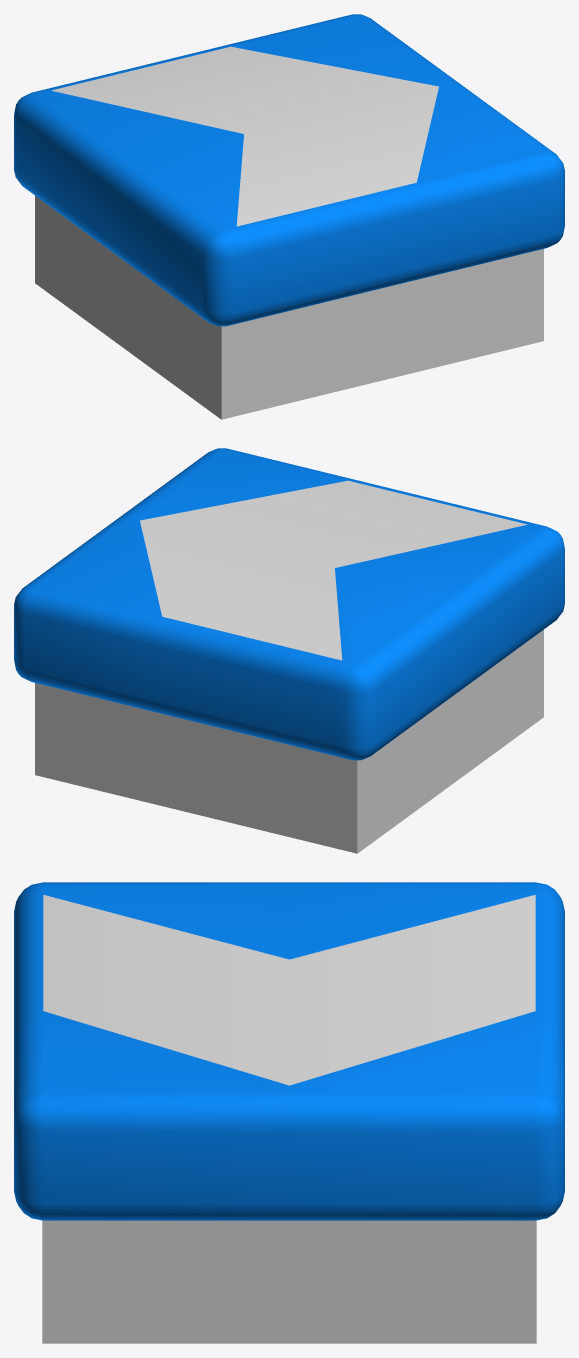
3 views of the same model, one above another, from view 1: azimuth 30°, elevation 25°; view 2: azimuth 150°, elevation 25°; view 3: azimuth 270°, elevation 25° (orthographic). The views are drawn at different scales.
Parts seen in each view (by area): view 1: Base_1_Arrow_White_; view 2: Base_1_Arrow_White_; view 3: Base_1_Arrow_White_.
Boxes of the visible parts, <box> form: Base_1_Arrow_White_: <box>14,14,564,419</box>; Base_1_Arrow_White_: <box>14,448,564,853</box>; Base_1_Arrow_White_: <box>14,882,564,1343</box>.
Bounding box in the file's own units: 3.98 × 2 × 3.99.
